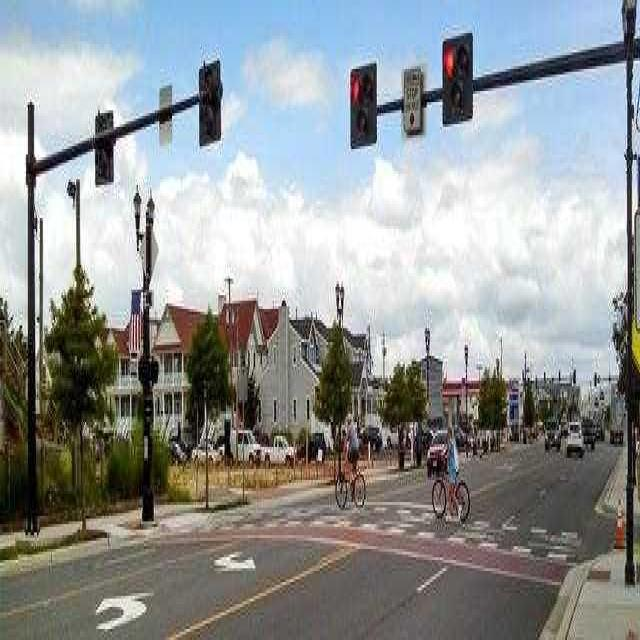Traffic Light -Red-: (439, 30, 475, 129), (349, 64, 379, 154)
